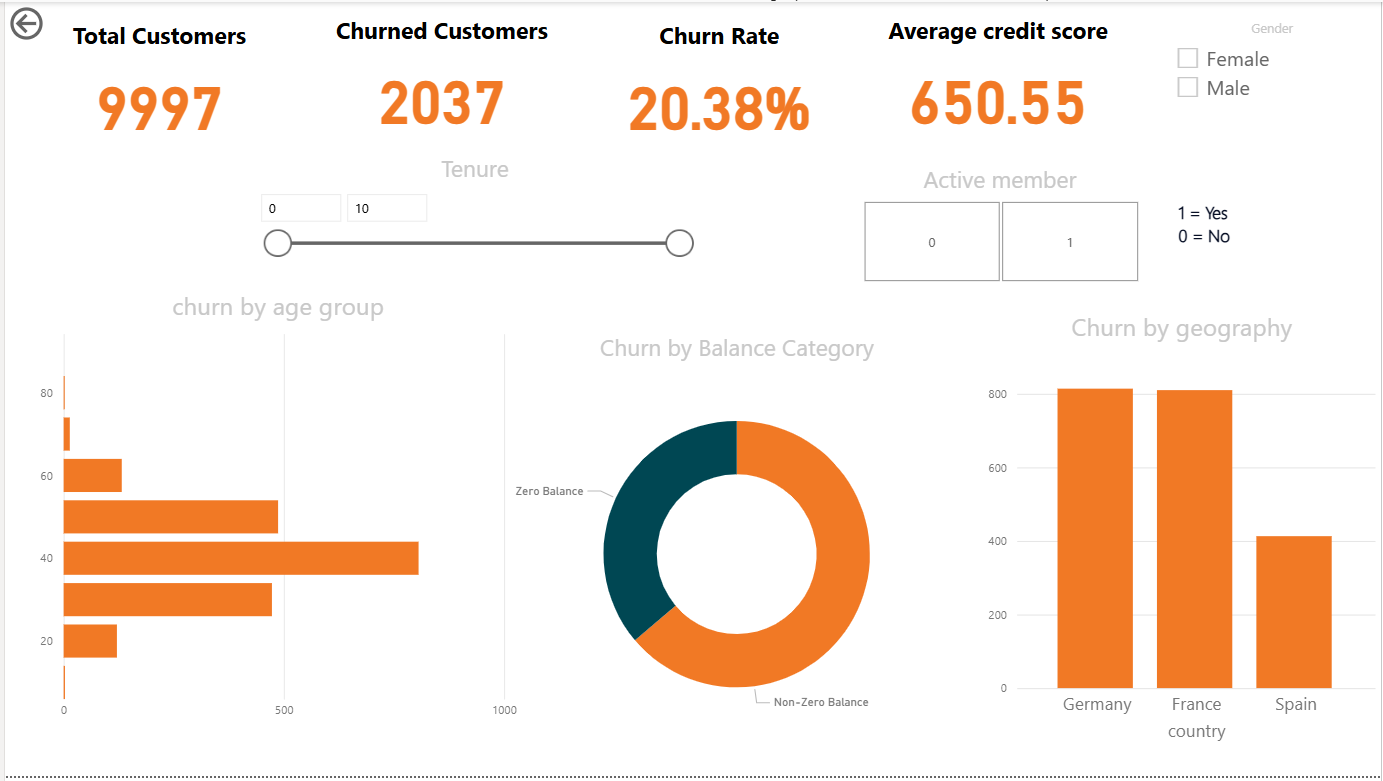

The page's visual inventory and layout, read from the dashboard file:
{"tool":"powerbi","page":{"name":"Customer churn  dashboard","canvas":[1280,720],"ordinal":0},"visuals":[{"type":"card","title":"Total Customers","fields":{"Values":["Count(churn_cleaned.customer_id)"]},"box":[34.8,16.8,217.3,123.7],"z":0},{"type":"card","title":"Churned Customers","fields":{"Values":["Sum(churn_cleaned.churned)"]},"box":[297.8,12,217.3,123.7],"z":1000},{"type":"card","title":"Churn Rate","fields":{"Values":["churn_cleaned.Churn Rate"]},"box":[555.9,16.8,217.3,123.7],"z":2000},{"type":"columnChart","title":"Churn by geography","fields":{"Category":["churn_cleaned.geography"],"Y":["Sum(churn_cleaned.churned)"]},"box":[909.3,286,370.9,407],"z":3000},{"type":"clusteredBarChart","title":"churn by age group","fields":{"Category":["churn_cleaned.age group"],"Y":["Sum(churn_cleaned.churned)"]},"box":[26.7,266.3,454.7,409.3],"z":4000},{"type":"card","title":"Average credit score","fields":{"Values":["Avg(churn_cleaned.credit_score)"]},"box":[815.3,12,217.3,123.7],"z":5000},{"type":"slicer","title":"Tenure","fields":{"Values":["churn_cleaned.tenure"]},"box":[225.6,139.5,423.3,111.6],"z":6000},{"type":"slicer","title":"Active member","fields":{"Values":["churn_cleaned.is_active_member"]},"box":[773.3,150,304.7,116.3],"z":7000},{"type":"textbox","box":[1077.9,179.1,81.4,73.3],"z":8000},{"type":"slicer","title":"Gender","fields":{"Values":["churn_cleaned.gender"]},"box":[1078.3,16.8,201.7,114.1],"z":9000},{"type":"actionButton","box":[0,0,100,40],"z":10000},{"type":"donutChart","title":"Churn by Balance Category","fields":{"Category":["churn_cleaned.Balance Category"],"Y":["Count(churn_cleaned.customer_id)"]},"box":[452.3,305.8,457,387.2],"z":11000}]}

Visuals, with their boxes in screenshot pixels (x1, y1, x2, y2), scaled from the page's 1280x720 canvas onto the 1383x781 screenshot:
"Total Customers" card: [38, 18, 272, 152]
"Churned Customers" card: [322, 13, 557, 147]
"Churn Rate" card: [601, 18, 835, 152]
"Churn by geography" columnChart: [982, 310, 1382, 752]
"churn by age group" clusteredBarChart: [29, 289, 520, 733]
"Average credit score" card: [881, 13, 1116, 147]
"Tenure" slicer: [244, 151, 701, 272]
"Active member" slicer: [836, 163, 1165, 289]
textbox: [1165, 194, 1253, 274]
"Gender" slicer: [1165, 18, 1382, 142]
actionButton: [0, 0, 108, 43]
"Churn by Balance Category" donutChart: [489, 332, 982, 752]
